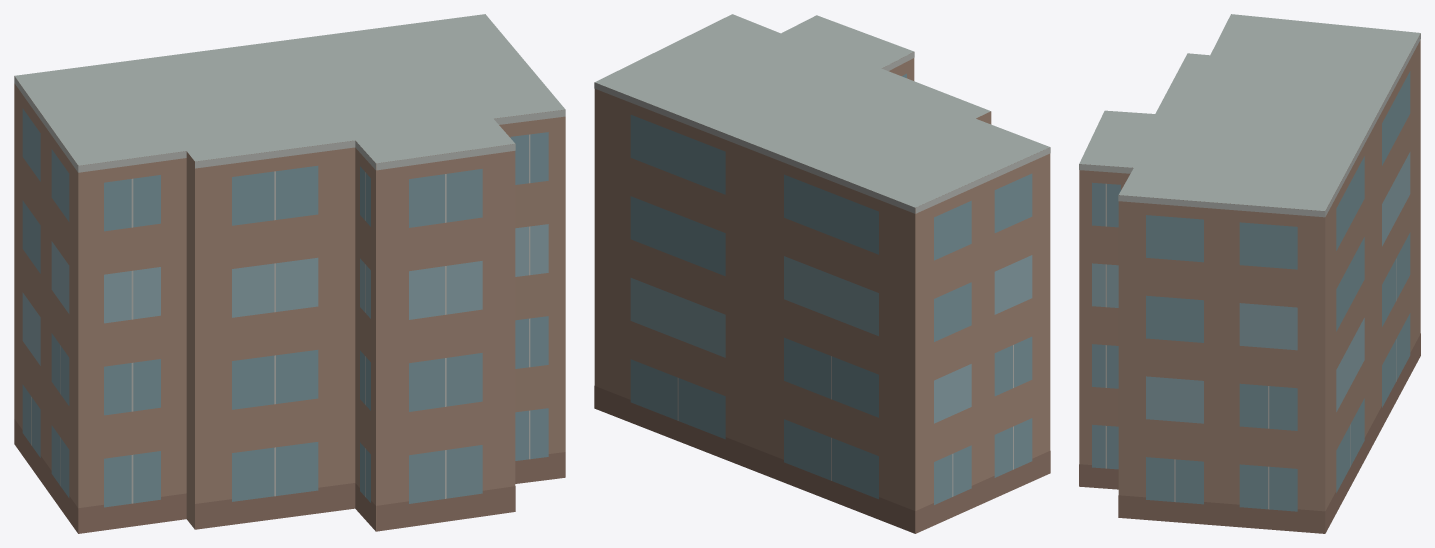
Rendered from survey-upis-32558279.glb.
3 renders of one model, left to right at view 1: azimuth 30°, elevation 25°; view 2: azimuth 150°, elevation 25°; view 3: azimuth 270°, elevation 25°, orthographic. The views are drawn at different scales.
Visible parts, largest first — view 1: survey-upis-32558279.tmp; view 2: survey-upis-32558279.tmp; view 3: survey-upis-32558279.tmp.
Boxes of the visible parts, box(x1,y1,x2,y2) form: survey-upis-32558279.tmp: box(14, 14, 565, 533); survey-upis-32558279.tmp: box(594, 14, 1050, 533); survey-upis-32558279.tmp: box(1079, 14, 1420, 533).
Bounding box in the file's own units: 16.78 × 12.8 × 12.29.
